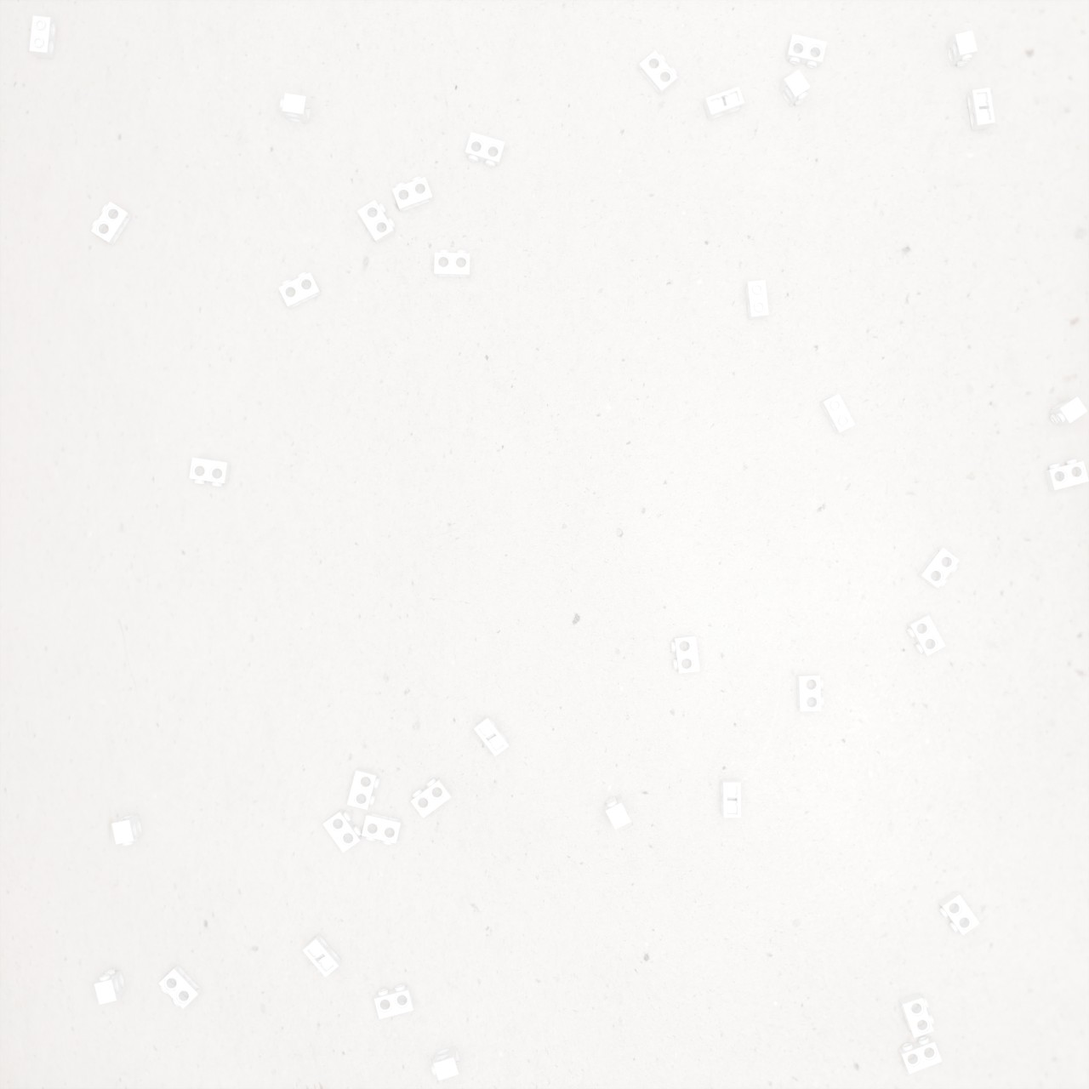lego: (159, 964, 202, 1009), (938, 890, 980, 935), (91, 201, 132, 246), (638, 50, 678, 96), (917, 547, 960, 588), (322, 809, 362, 853), (302, 934, 342, 978), (357, 200, 396, 244), (410, 778, 452, 818), (906, 614, 946, 656), (898, 1036, 942, 1074), (898, 993, 935, 1038), (278, 272, 322, 309), (392, 176, 434, 213), (819, 393, 855, 435), (474, 716, 510, 757), (785, 34, 827, 69), (703, 86, 745, 121), (1044, 459, 1089, 491), (374, 984, 415, 1019), (465, 132, 505, 167), (347, 768, 380, 810), (362, 812, 402, 845), (189, 457, 231, 487), (967, 87, 995, 131), (779, 69, 811, 107), (29, 16, 57, 59), (1048, 396, 1088, 426), (946, 30, 978, 67), (94, 969, 126, 1005), (671, 635, 700, 674), (796, 674, 824, 712), (431, 1046, 461, 1081), (434, 250, 471, 278), (112, 814, 143, 846), (280, 93, 311, 124), (745, 280, 769, 320), (604, 796, 631, 830), (721, 779, 741, 818)
